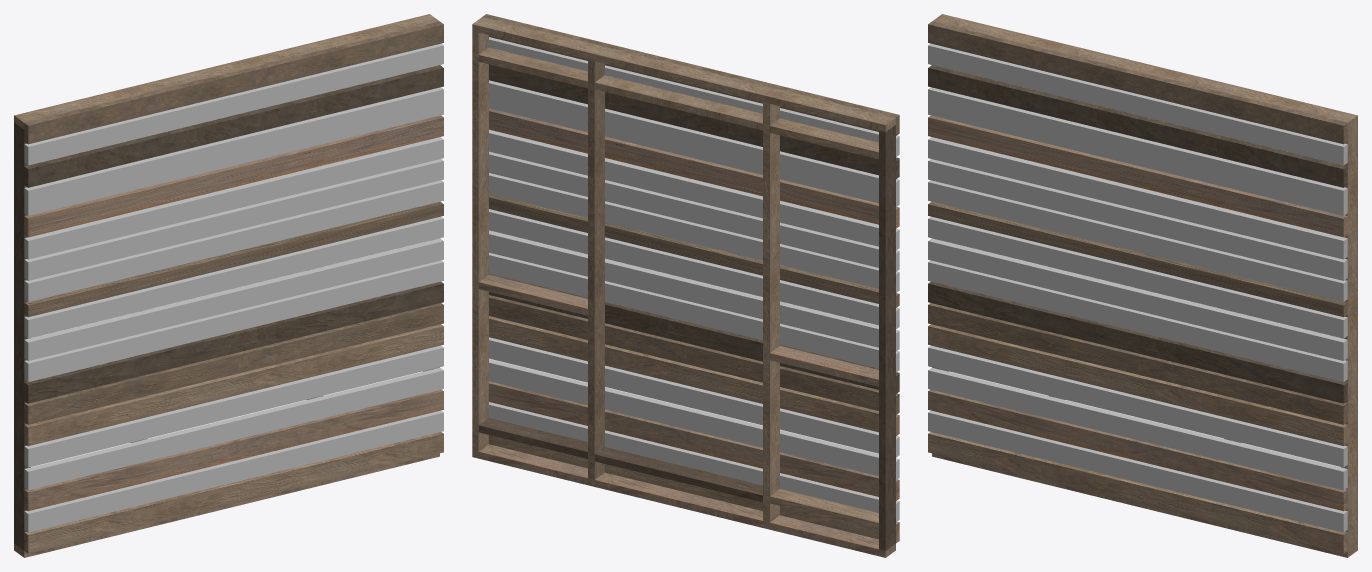
File: WallPeiceA.fbx
The picture shows the model from 3 angles, left to right: view 1: azimuth 30°, elevation 25°; view 2: azimuth 150°, elevation 25°; view 3: azimuth 330°, elevation 25°; orthographic projection.
Parts seen in each view (by area): view 1: WallPeiceA; view 2: WallPeiceA; view 3: WallPeiceA.
Boxes of the visible parts, left/top/right/bottom form: WallPeiceA: left=14, top=14, right=443, bottom=557; WallPeiceA: left=472, top=14, right=899, bottom=557; WallPeiceA: left=928, top=14, right=1357, bottom=557.
Size of the model in its own units: 374 by 374 by 22.
